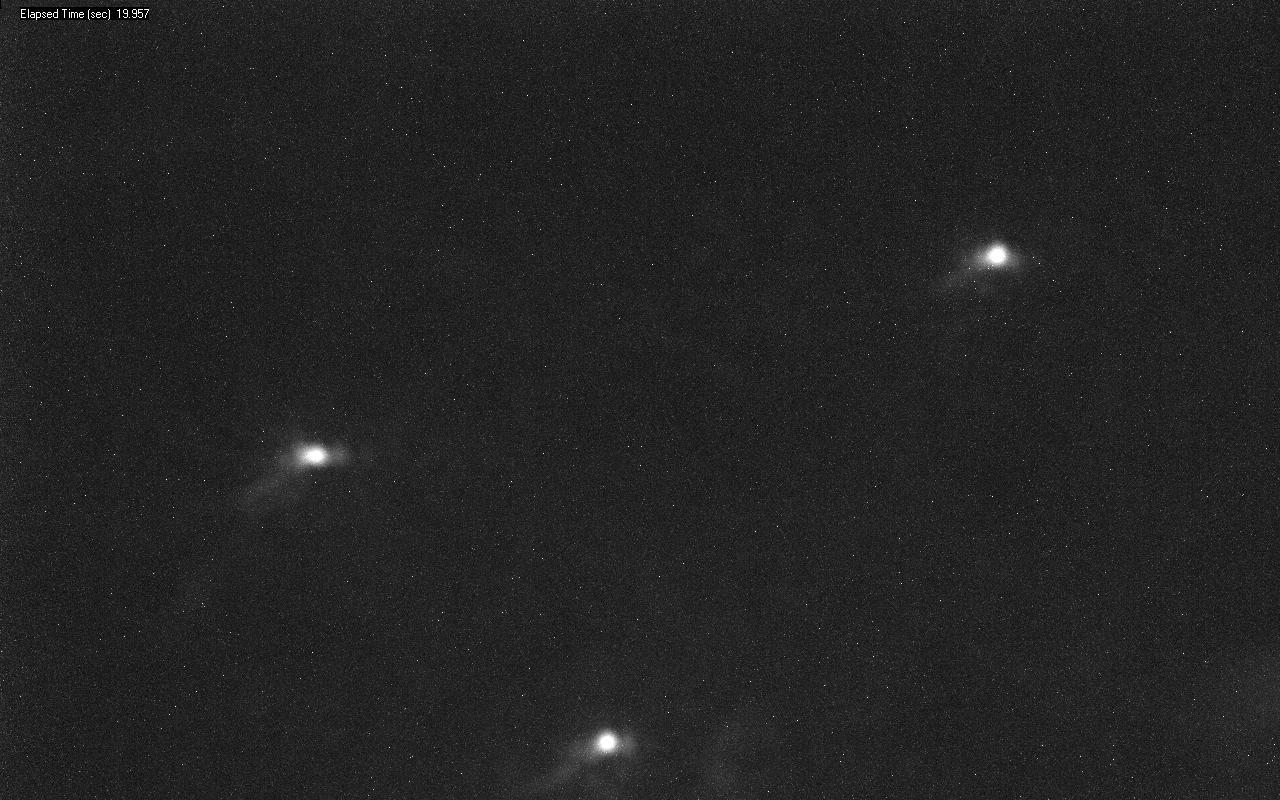Bead: (295, 445, 335, 469), (976, 245, 1012, 271), (593, 733, 621, 754)
